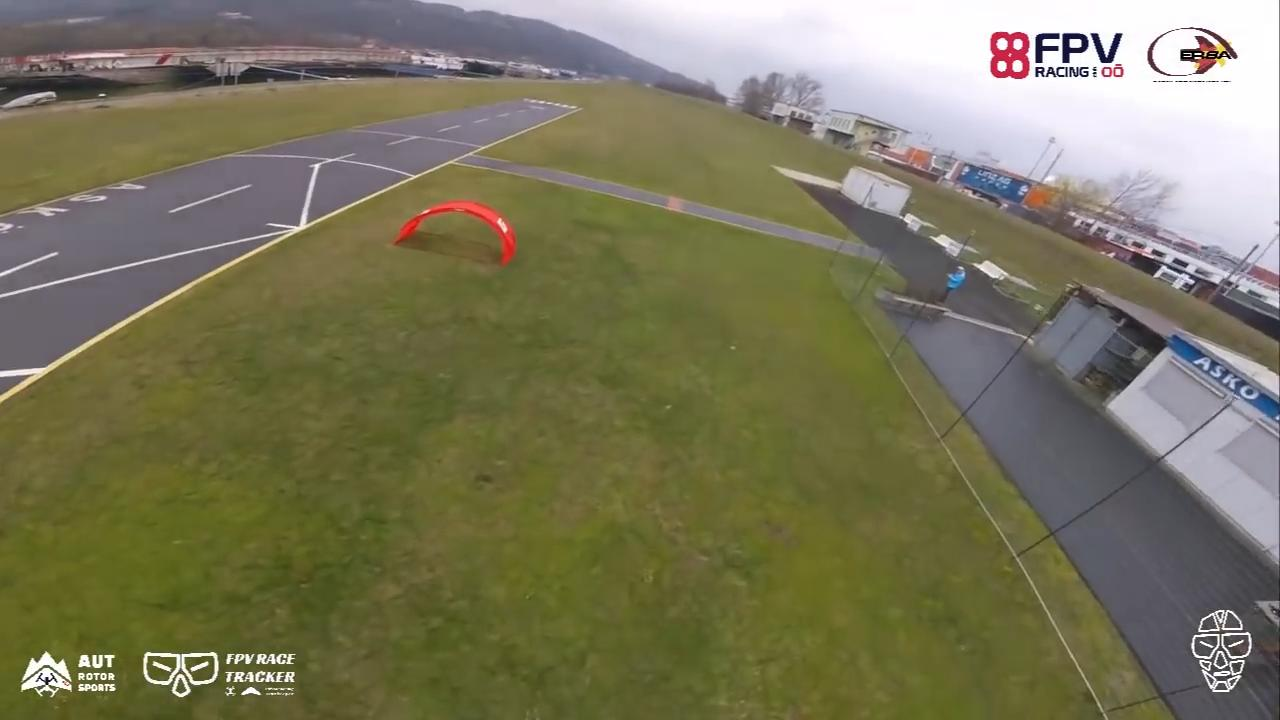gate: (393, 198, 517, 270)
